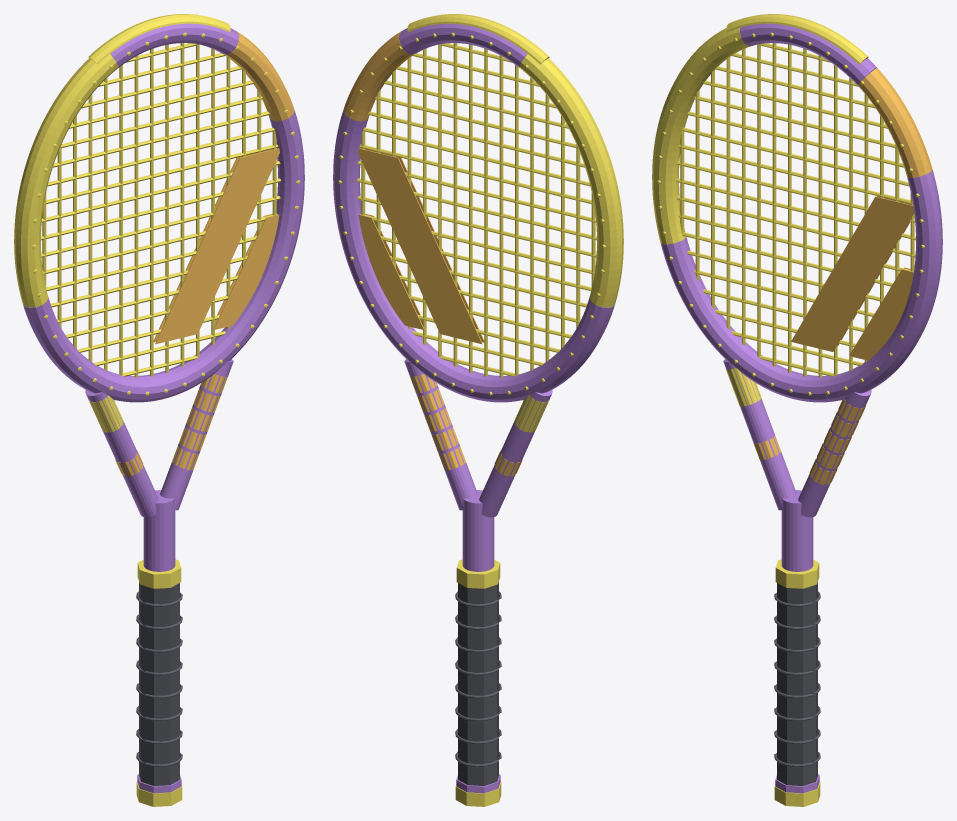
Rendered from babolat-pure-aero-rafa.glb.
The picture shows the model from 3 angles, left to right: view 1: azimuth 30°, elevation 25°; view 2: azimuth 150°, elevation 25°; view 3: azimuth 330°, elevation 25°; orthographic projection.
Visible parts, largest first — view 1: strings, frame, stencil, frame_black, handle, frame_white, throat, shaft, wraps, collar, grommets, cap; view 2: strings, frame, stencil, frame_black, handle, frame_white, throat, shaft, wraps, collar, grommets, cap; view 3: strings, frame, stencil, frame_black, handle, frame_white, throat, shaft, wraps, collar, grommets, cap.
Boxes of the visible parts, bbox=[...] form: strings: bbox=[41, 43, 280, 377]; frame: bbox=[23, 23, 304, 402]; stencil: bbox=[153, 148, 279, 344]; frame_black: bbox=[14, 14, 230, 432]; handle: bbox=[139, 582, 179, 785]; frame_white: bbox=[115, 31, 294, 476]; throat: bbox=[85, 359, 233, 517]; shaft: bbox=[143, 490, 175, 571]; wraps: bbox=[136, 591, 182, 766]; collar: bbox=[137, 559, 181, 588]; grommets: bbox=[32, 32, 299, 395]; cap: bbox=[136, 781, 182, 806]; strings: bbox=[357, 43, 596, 377]; frame: bbox=[333, 23, 614, 402]; stencil: bbox=[358, 148, 484, 344]; frame_black: bbox=[407, 14, 623, 432]; handle: bbox=[458, 582, 498, 785]; frame_white: bbox=[343, 31, 522, 476]; throat: bbox=[404, 359, 552, 517]; shaft: bbox=[462, 490, 494, 571]; wraps: bbox=[455, 591, 501, 766]; collar: bbox=[456, 559, 500, 588]; grommets: bbox=[338, 32, 605, 395]; cap: bbox=[455, 781, 501, 806]; strings: bbox=[675, 43, 915, 377]; frame: bbox=[660, 23, 942, 402]; stencil: bbox=[791, 196, 914, 360]; frame_black: bbox=[652, 14, 868, 406]; handle: bbox=[777, 582, 817, 785]; frame_white: bbox=[753, 68, 932, 484]; throat: bbox=[723, 359, 871, 517]; shaft: bbox=[781, 490, 813, 571]; wraps: bbox=[774, 591, 820, 766]; collar: bbox=[775, 559, 819, 588]; grommets: bbox=[657, 32, 924, 395]; cap: bbox=[774, 781, 820, 806].
Bounding box in the file's own units: 0.272 × 0.7055 × 0.039.
